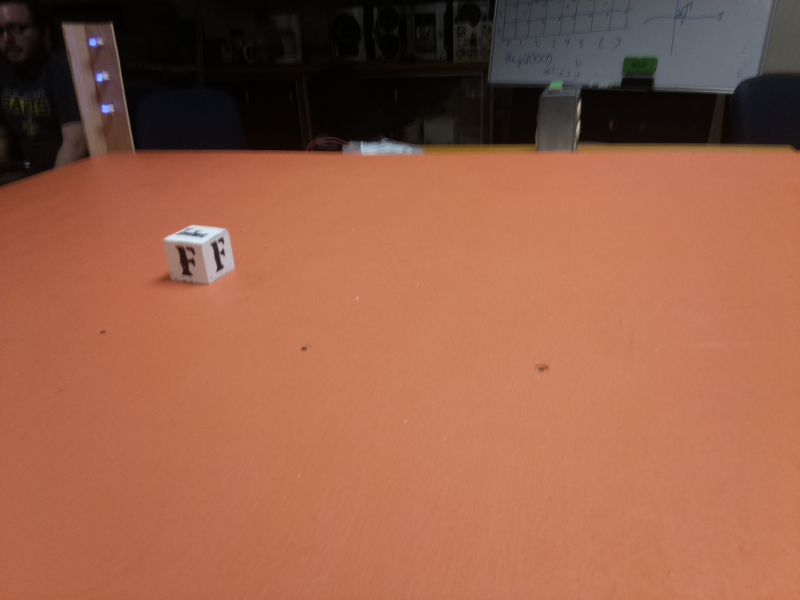blockF: (166, 225, 237, 283)
corner: (56, 17, 141, 156)
